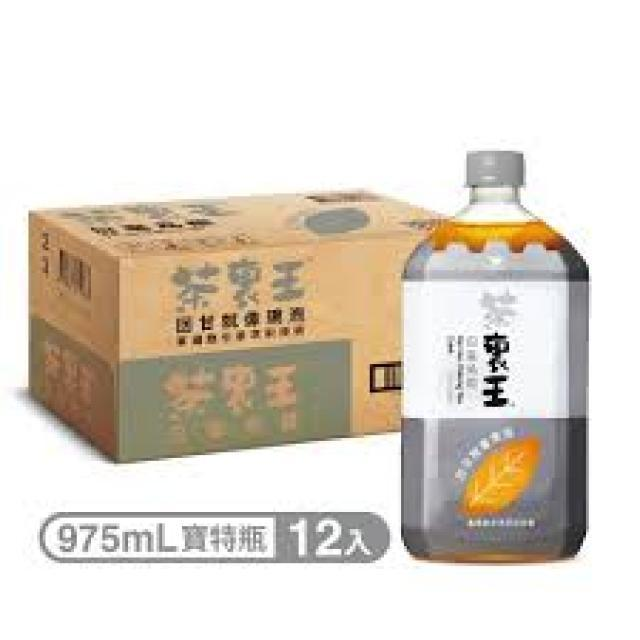ChaLiWong_WhiteOolong: (394, 144, 602, 566)
